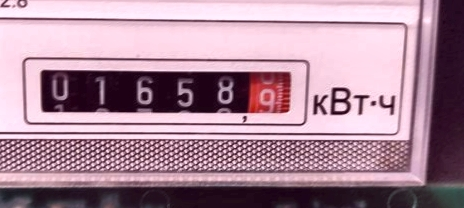0: (50, 70, 70, 100)
1: (93, 73, 110, 105)
5: (175, 75, 196, 107)
6: (135, 72, 155, 105)
8: (216, 73, 236, 105)
9: (256, 87, 277, 115)
screen: (14, 48, 314, 132)
